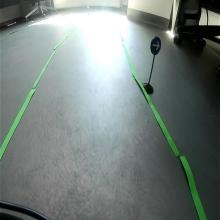right: (150, 36, 162, 56)
